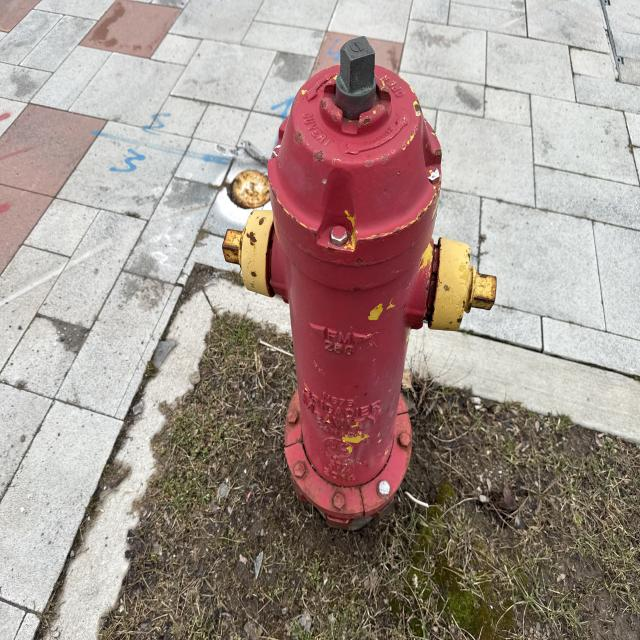Fire hydrant: (222, 34, 498, 530)
